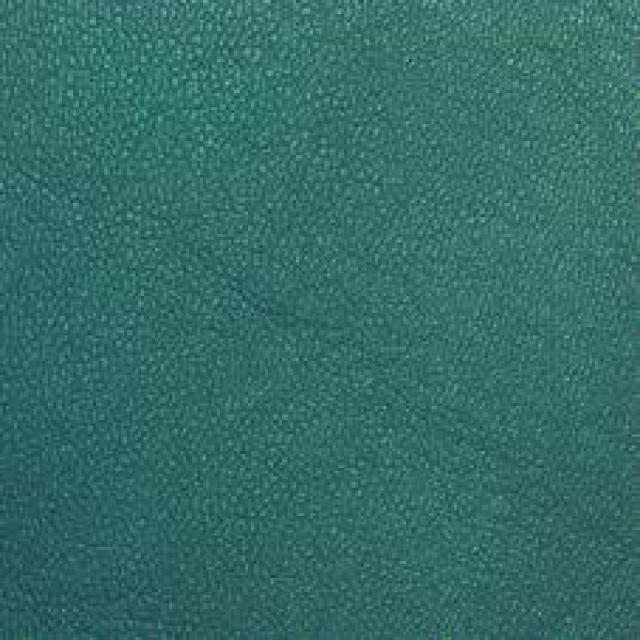Growth Marks: (156, 201, 363, 391), (383, 357, 562, 519)
